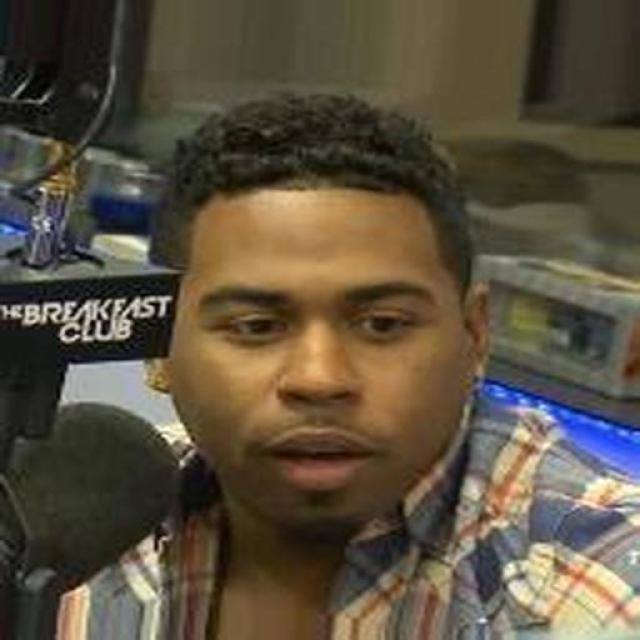bareface: (158, 96, 458, 512)
